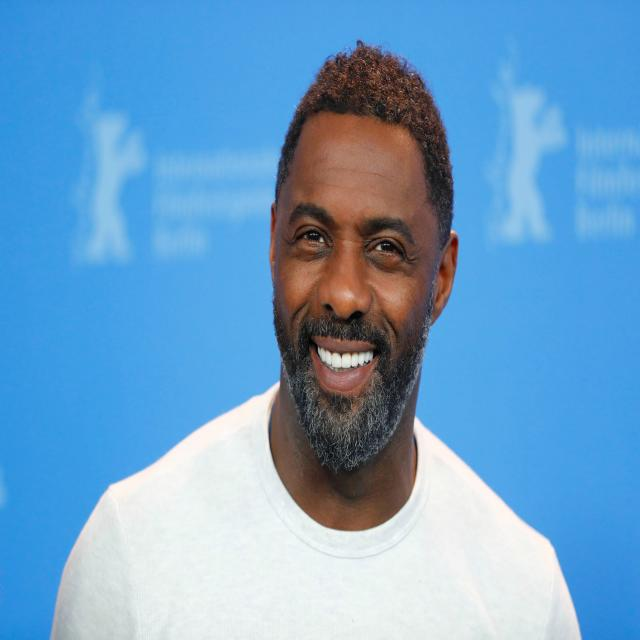adult: (51, 47, 584, 640)
